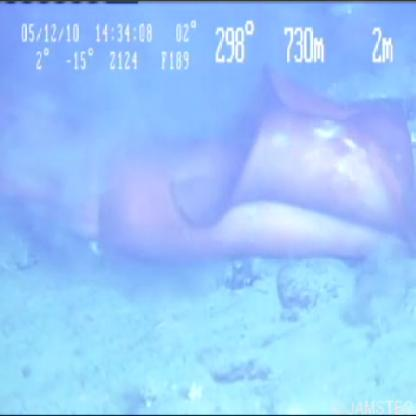Bio: (1, 61, 414, 276)
